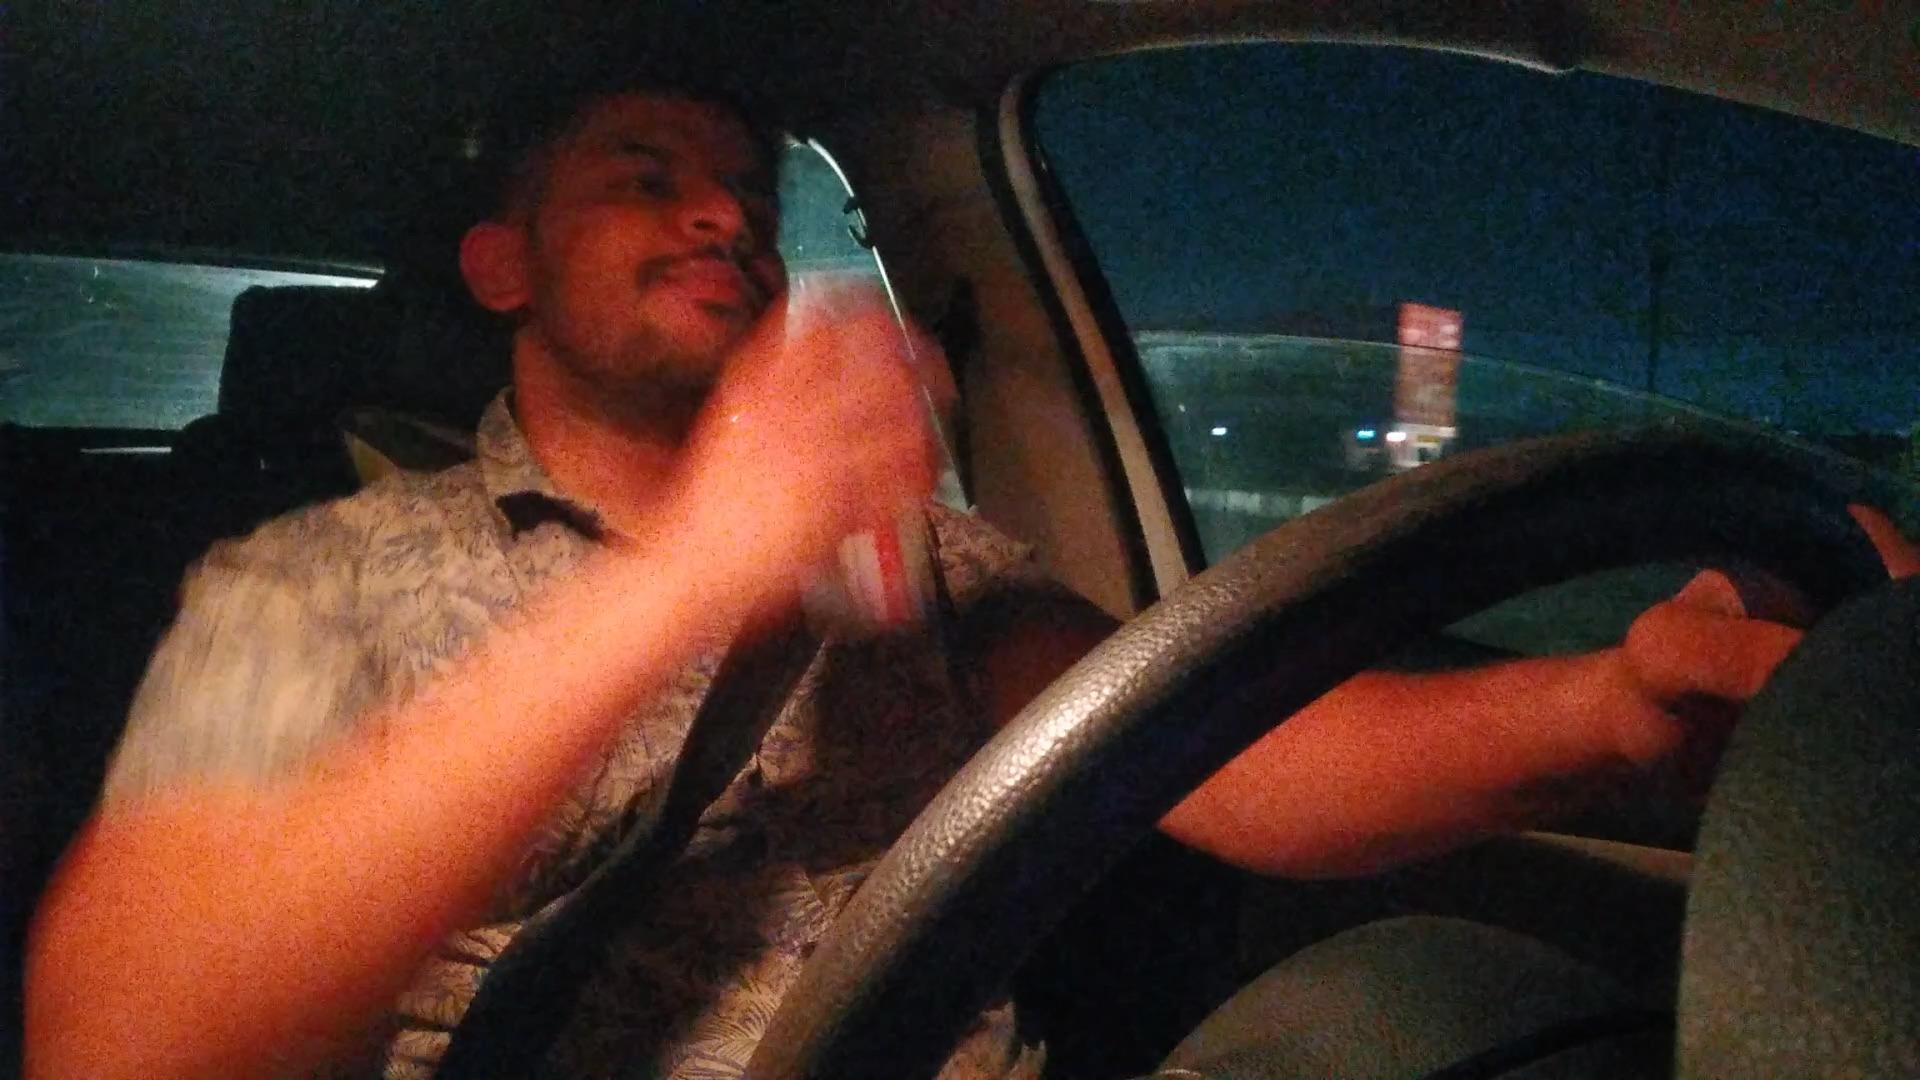Drinking: (460, 88, 942, 637)
